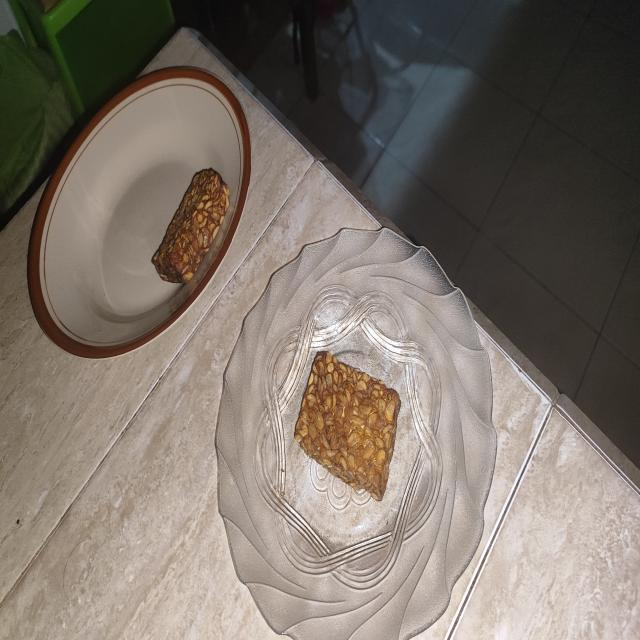tempe_goreng: (294, 352, 400, 501), (152, 168, 230, 283)
